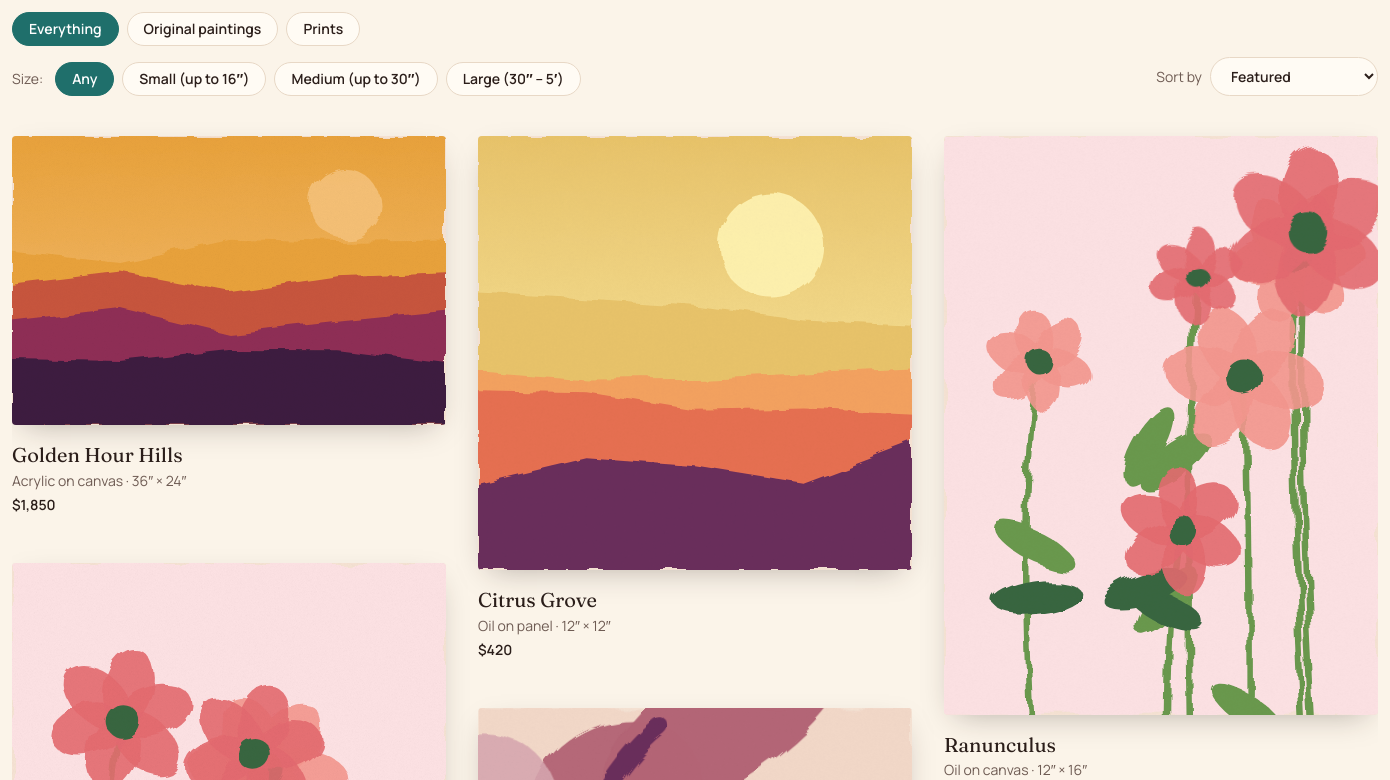
Scenario: ShopBrowser › ignores a chosen size while browsing prints, and restores it after
This screenshot has width=1390, height=780.
What coordinates should you click on to do the following:
click the button "Small (up to 16″)"
I would click on:
 (194, 79)
Its box is top-left (122, 62), bottom-right (266, 96).
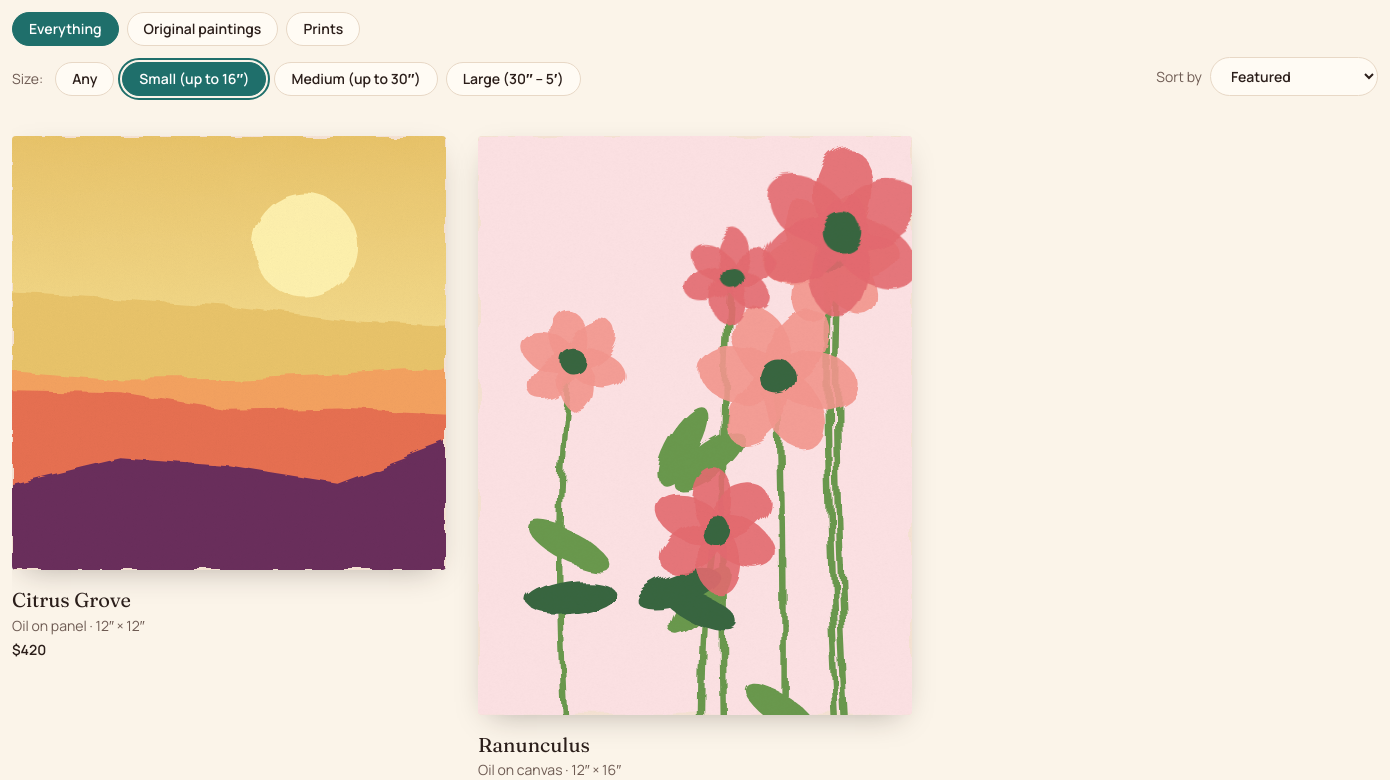
Result: the number of headings is 2 at top-left (12, 587), bottom-right (131, 612); top-left (478, 732), bottom-right (590, 757)
What coordinates should you click on to do the following:
click the button "Prints"
I would click on:
 (323, 29)
Its box is top-left (286, 12), bottom-right (360, 46).
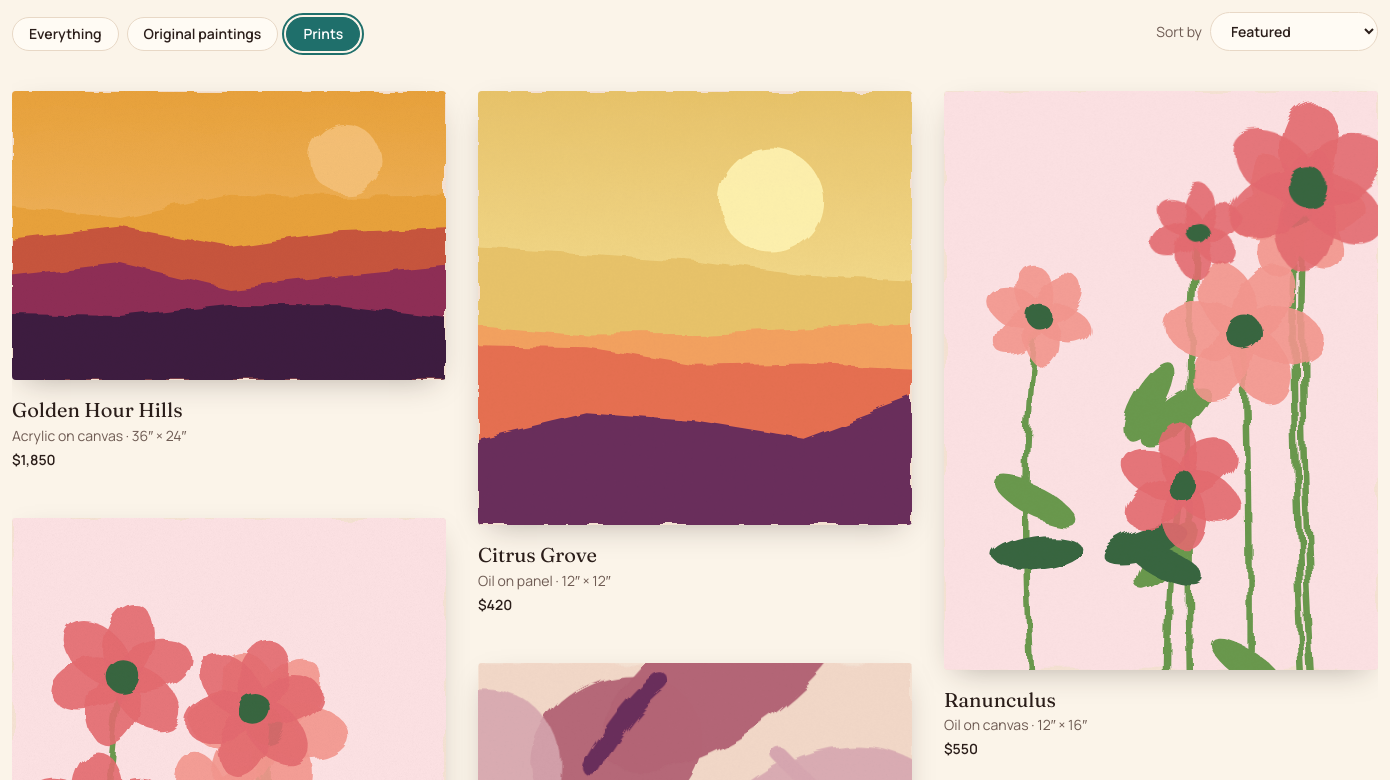
Result: the number of headings is 11
What coordinates should you click on to do the following:
click the button "Everything"
I would click on:
 (65, 34)
Its box is top-left (12, 17), bottom-right (118, 51).
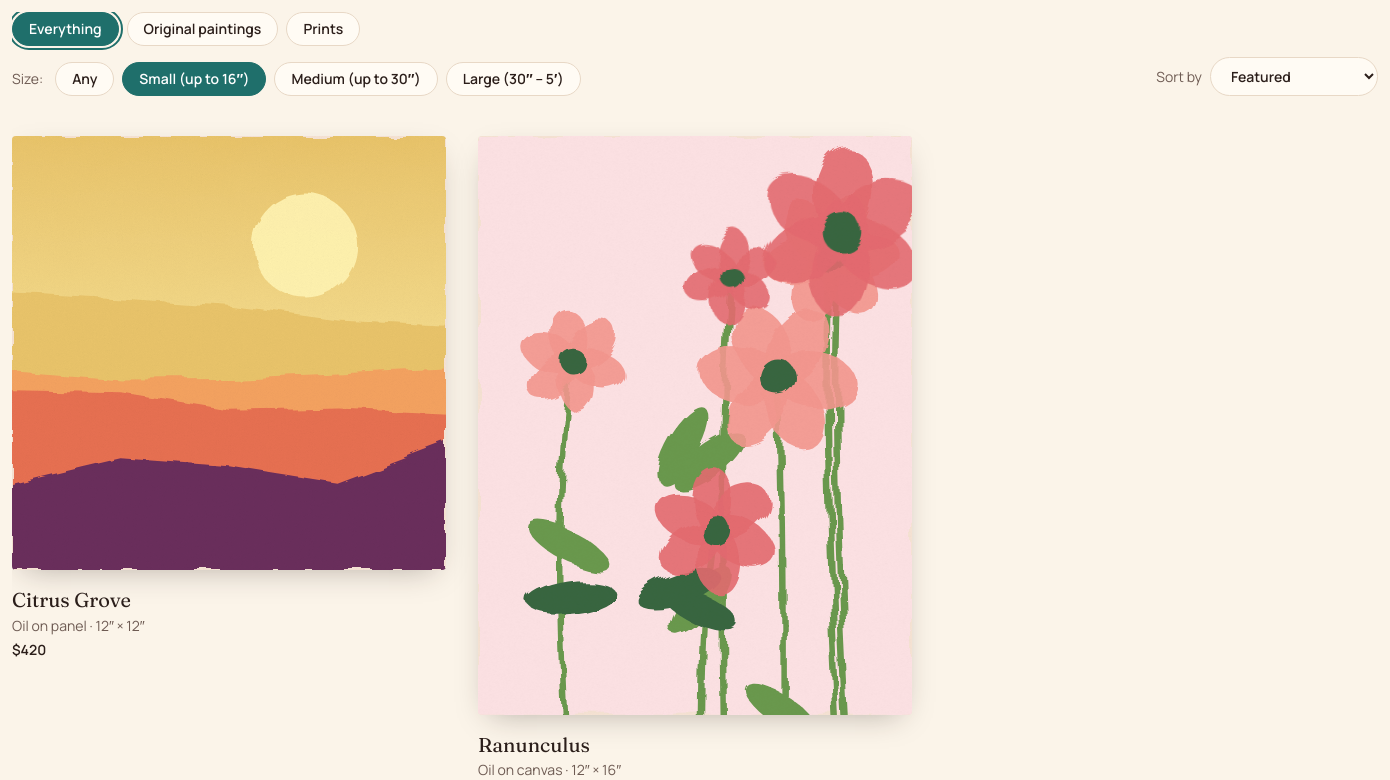
Result: the number of headings is 2 at top-left (12, 587), bottom-right (131, 612); top-left (478, 732), bottom-right (590, 757)
